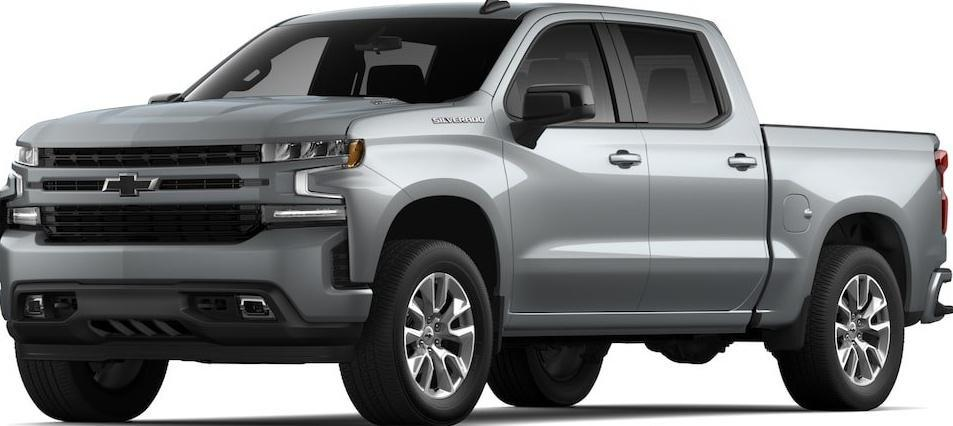Trucks: (1, 1, 953, 425)
